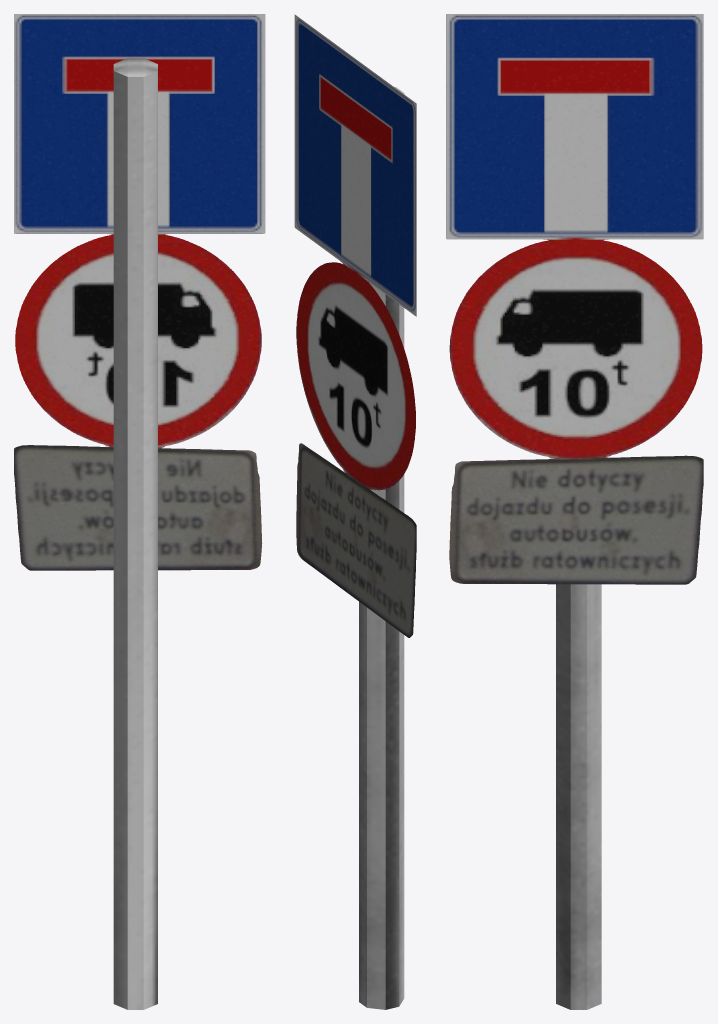
Rendered from sign.obj.
The picture shows the model from 3 angles, left to right: view 1: azimuth 90°, elevation 25°; view 2: azimuth 210°, elevation 25°; view 3: azimuth 270°, elevation 25°; orthographic projection. The views are drawn at different scales.
Visible parts, largest first — view 1: Cube.001; view 2: Cube.001; view 3: Cube.001.
Part boxes in pixels (x1,y1,x2,y2): Cube.001: [14, 14, 265, 1009]; Cube.001: [294, 14, 416, 1009]; Cube.001: [446, 14, 703, 1009].
Bounding box in the file's own units: 0.0974 × 2.06 × 0.4832.
1 material, 1 textured.
